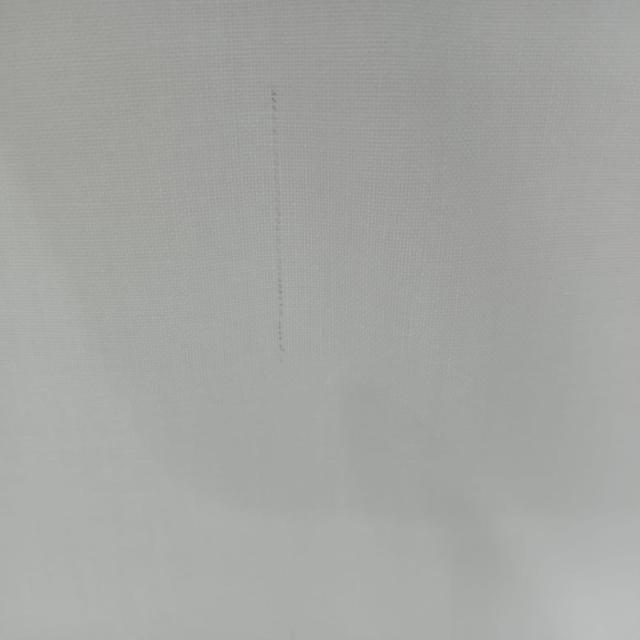contamination: (268, 87, 286, 356)
